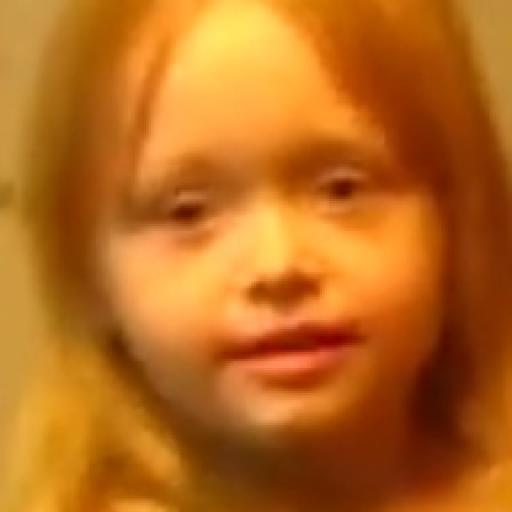Autism: (85, 19, 463, 436)
